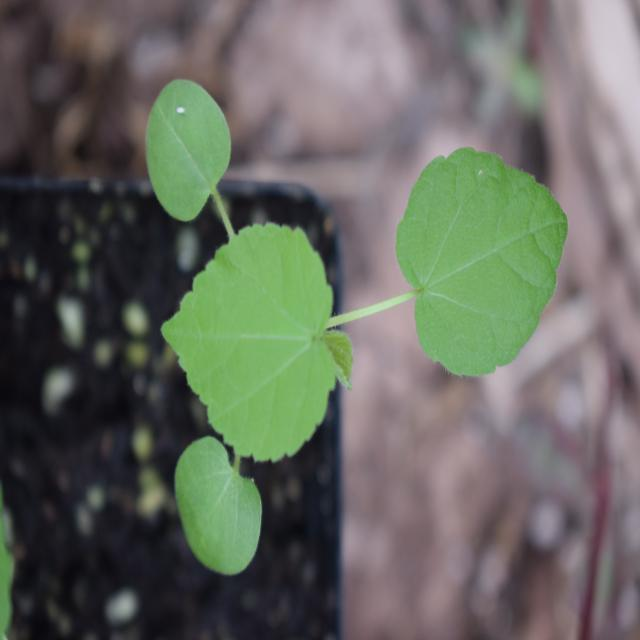abutilon theophrasti: (123, 68, 581, 572)
